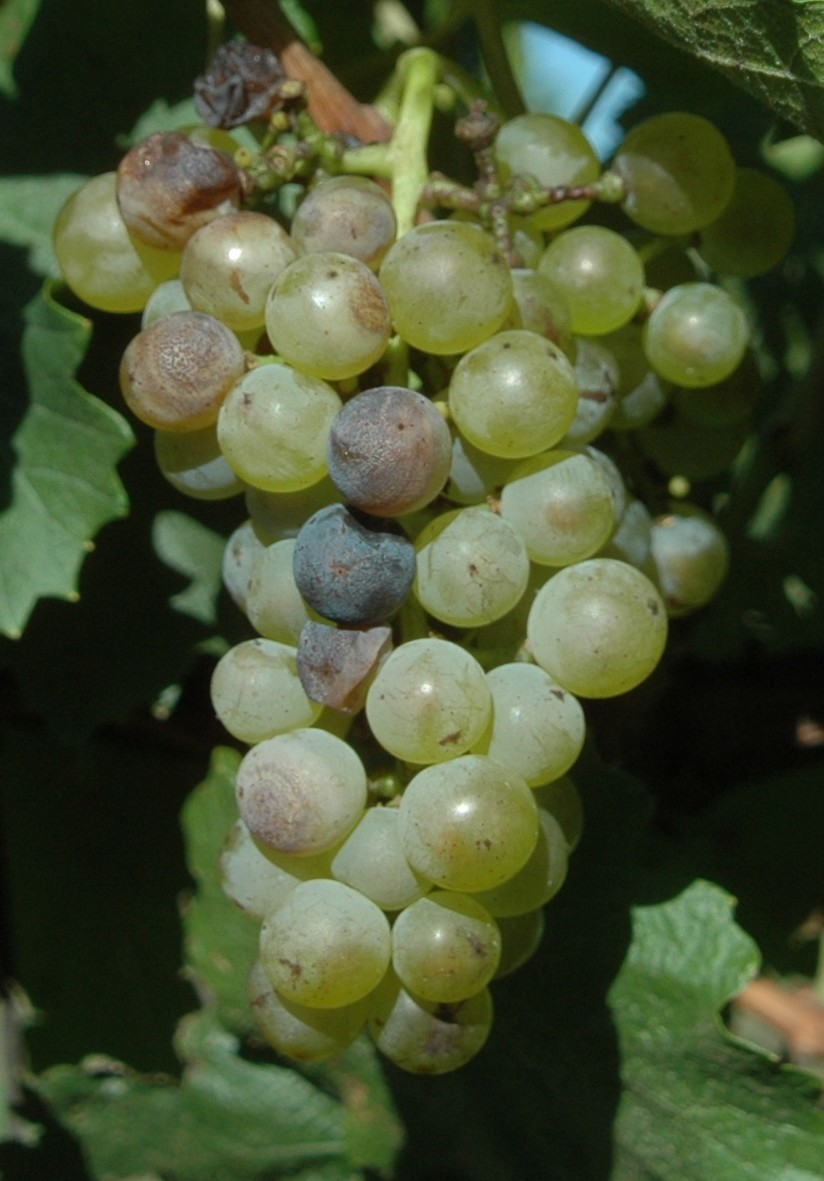Healthy: (378, 763, 537, 894), (519, 559, 664, 694), (56, 168, 183, 308), (263, 870, 386, 1010), (212, 364, 351, 487), (390, 221, 516, 351), (415, 508, 534, 643), (449, 330, 577, 449), (370, 639, 486, 761), (484, 662, 585, 788), (189, 212, 295, 325), (208, 639, 325, 734), (502, 111, 599, 224), (640, 285, 747, 383), (534, 234, 641, 325), (221, 521, 298, 633)
Unhealthy: (116, 127, 241, 261), (616, 98, 736, 237), (325, 383, 452, 514), (237, 729, 366, 856), (114, 312, 244, 434), (502, 433, 627, 556), (289, 506, 420, 622), (269, 261, 385, 375), (374, 984, 497, 1082), (390, 893, 507, 994), (290, 173, 398, 263), (292, 623, 396, 710), (662, 514, 724, 611), (582, 345, 620, 434)
